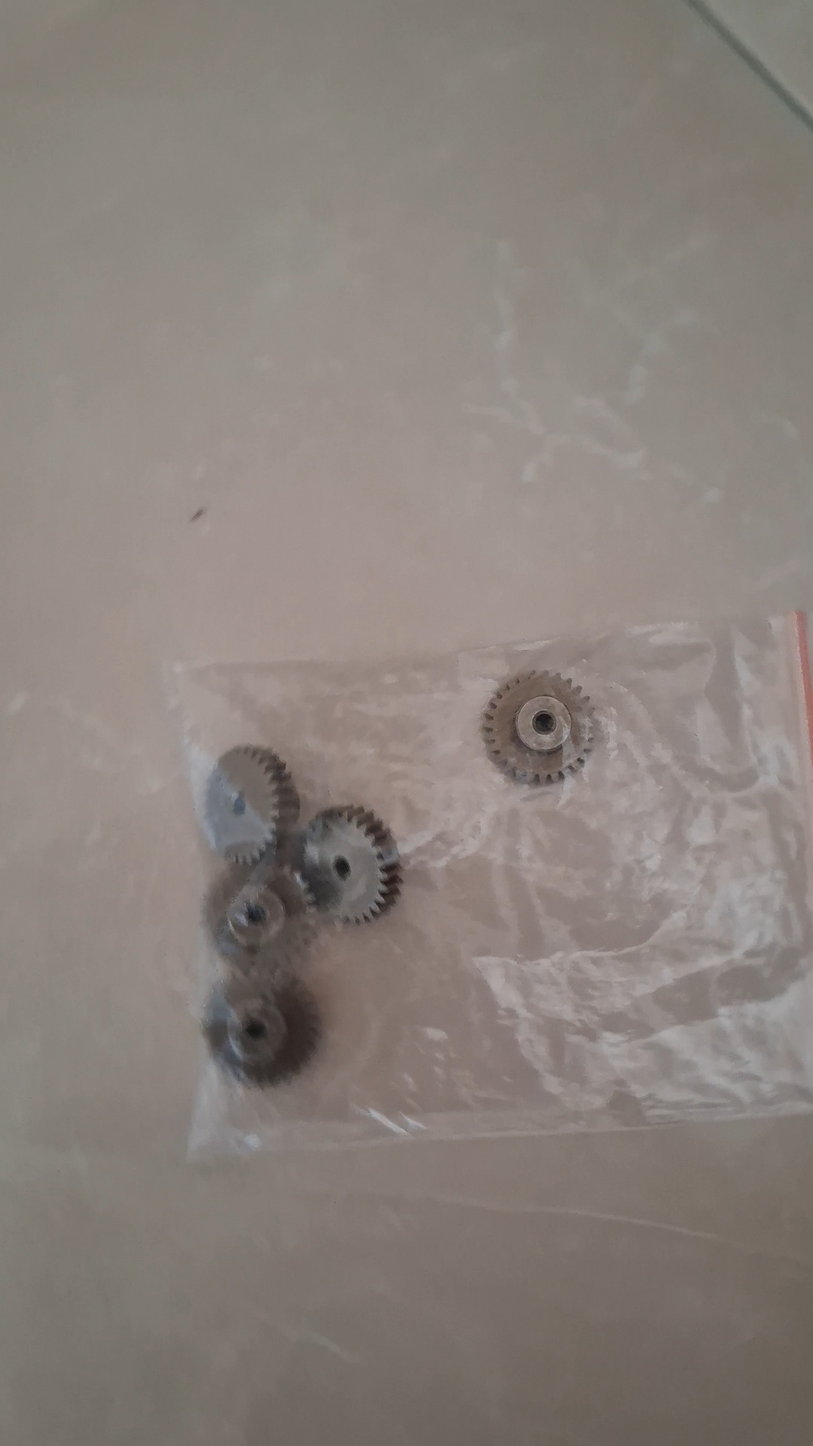spur gear: (204, 863, 315, 979), (202, 978, 320, 1086), (292, 805, 400, 922), (483, 672, 592, 784), (205, 746, 299, 863)
